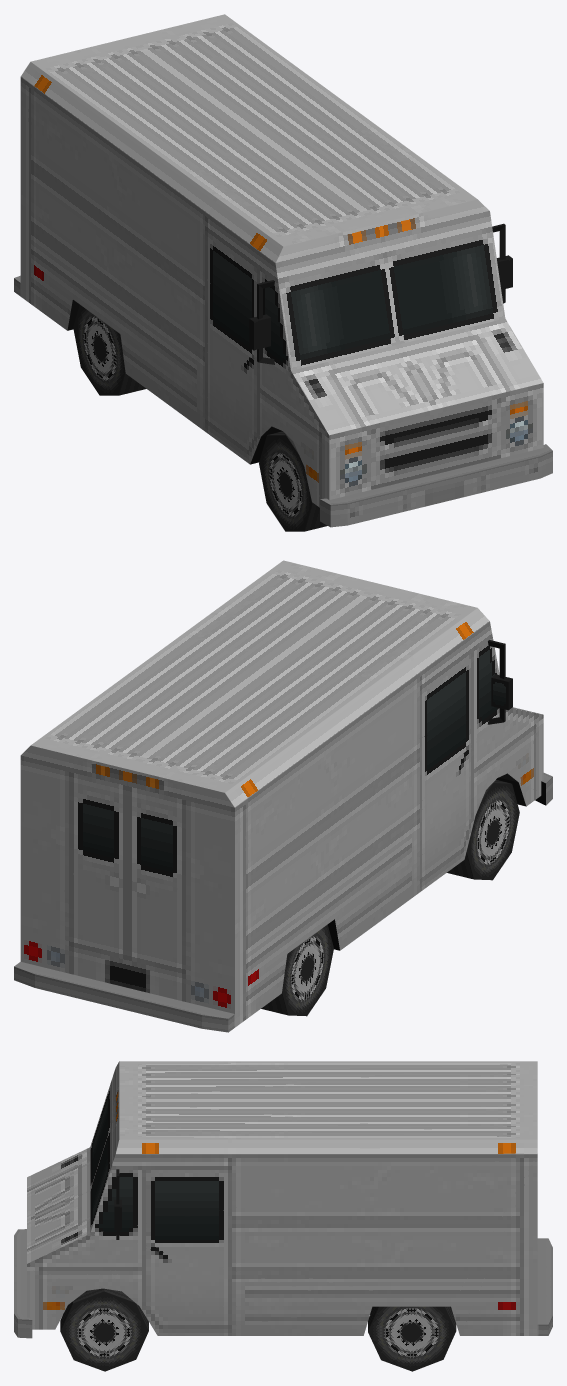
The model's file is Car8.glb.
The picture shows the model from 3 angles, top to bottom: view 1: azimuth 30°, elevation 25°; view 2: azimuth 150°, elevation 25°; view 3: azimuth 270°, elevation 25°; orthographic projection. The views are drawn at different scales.
Visible parts, largest first — view 1: Car8; view 2: Car8; view 3: Car8.
Part boxes in pixels (x1,y1,x2,y2): Car8: (14, 14, 552, 531); Car8: (14, 560, 552, 1032); Car8: (14, 1061, 552, 1371).
Size of the model in its own units: 3.17 by 3.23 by 6.89.
1 material, 1 textured.
